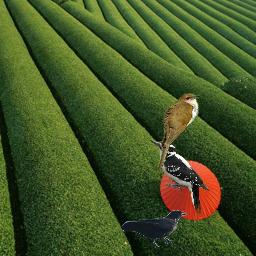Crow: (121, 210, 187, 249)
Cuckoo: (156, 93, 200, 175)
Woodpecker: (148, 137, 209, 217)
